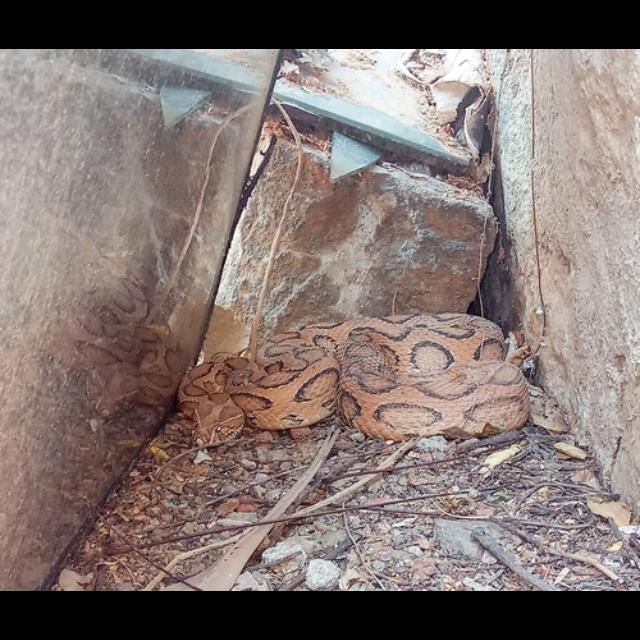snake: (175, 306, 543, 450)
